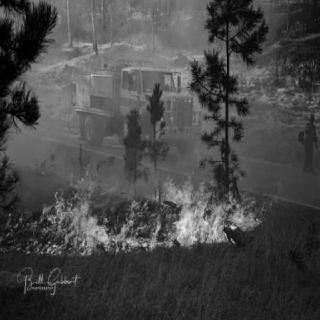Fire: (3, 165, 266, 258)
